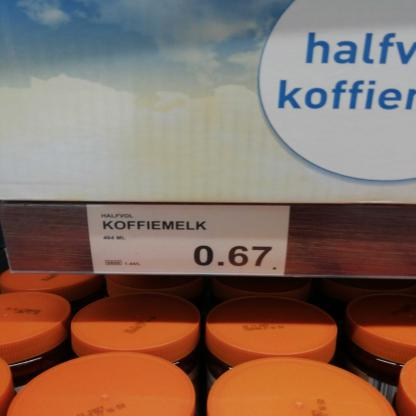prtg: (86, 204, 293, 277)
